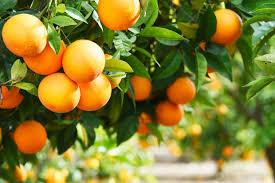orange: (0, 16, 57, 59), (38, 70, 89, 116), (66, 31, 111, 80), (75, 70, 116, 120), (6, 113, 48, 155), (28, 35, 73, 73), (93, 0, 143, 26), (151, 102, 195, 130), (217, 5, 248, 40), (165, 74, 199, 101)
